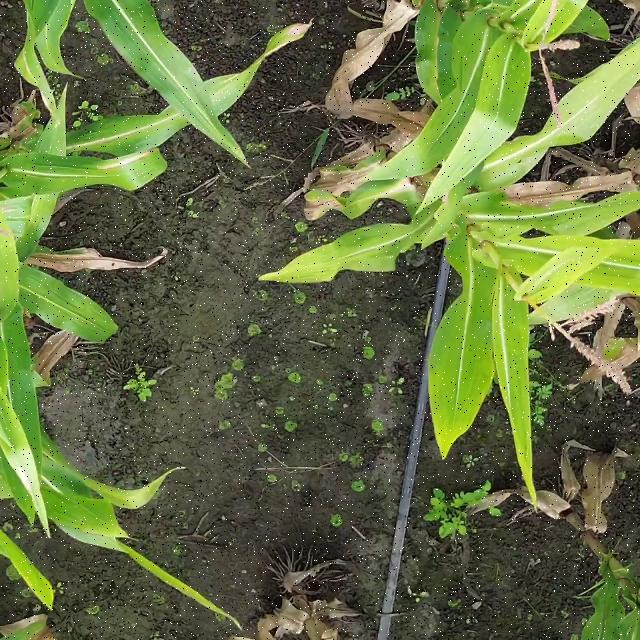northern-leaf-blight: (66, 108, 186, 189), (310, 143, 416, 230)
southern-leaf-blight: (494, 51, 547, 94)
